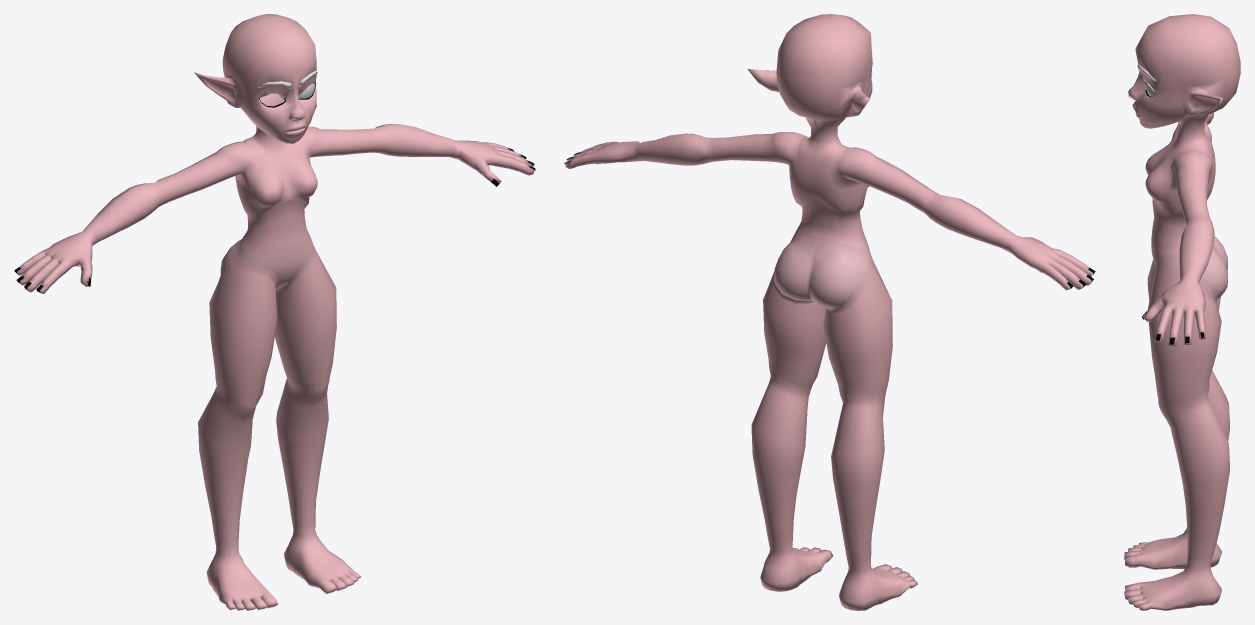
Rendered from observer.fbx.
3 views of the same model, side by side, from view 1: azimuth 30°, elevation 25°; view 2: azimuth 150°, elevation 25°; view 3: azimuth 270°, elevation 25° (orthographic).
Visible parts, largest first — view 1: PRP_mesh; view 2: PRP_mesh; view 3: PRP_mesh.
Boxes of the visible parts, bbox=[...] form: PRP_mesh: bbox=[14, 14, 535, 610]; PRP_mesh: bbox=[564, 14, 1095, 610]; PRP_mesh: bbox=[1124, 14, 1240, 610].
Size of the model in its own units: 1642 by 1721 by 323.
